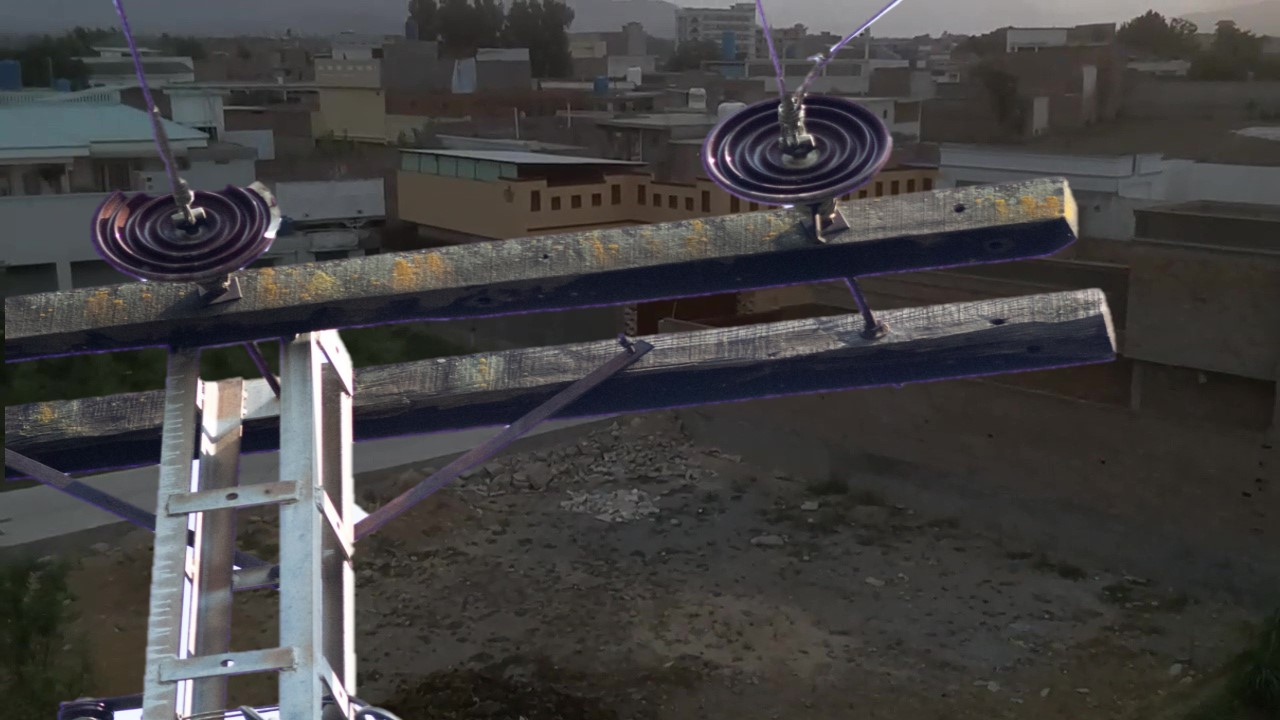defect_disc: (90, 178, 298, 294)
insulator_disc: (700, 88, 900, 218)
